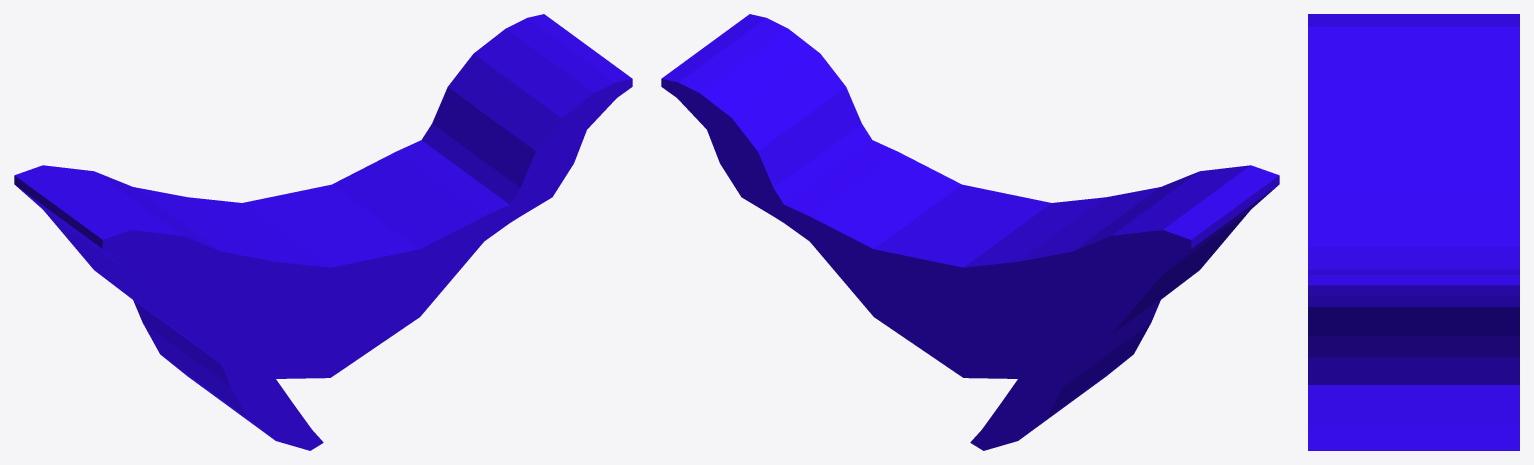
File: whale_piece.fbx
3 views of the same model, side by side, from view 1: azimuth 30°, elevation 25°; view 2: azimuth 150°, elevation 25°; view 3: azimuth 270°, elevation 25° (orthographic). The views are drawn at different scales.
Parts seen in each view (by area): view 1: whale; view 2: whale; view 3: whale.
Part boxes in pixels (bbox=[...]): whale: bbox=[14, 14, 632, 450]; whale: bbox=[661, 14, 1279, 450]; whale: bbox=[1308, 14, 1519, 450].
Size of the model in its own units: 4.56 by 1.32 by 2.42.
1 material, 1 textured.
